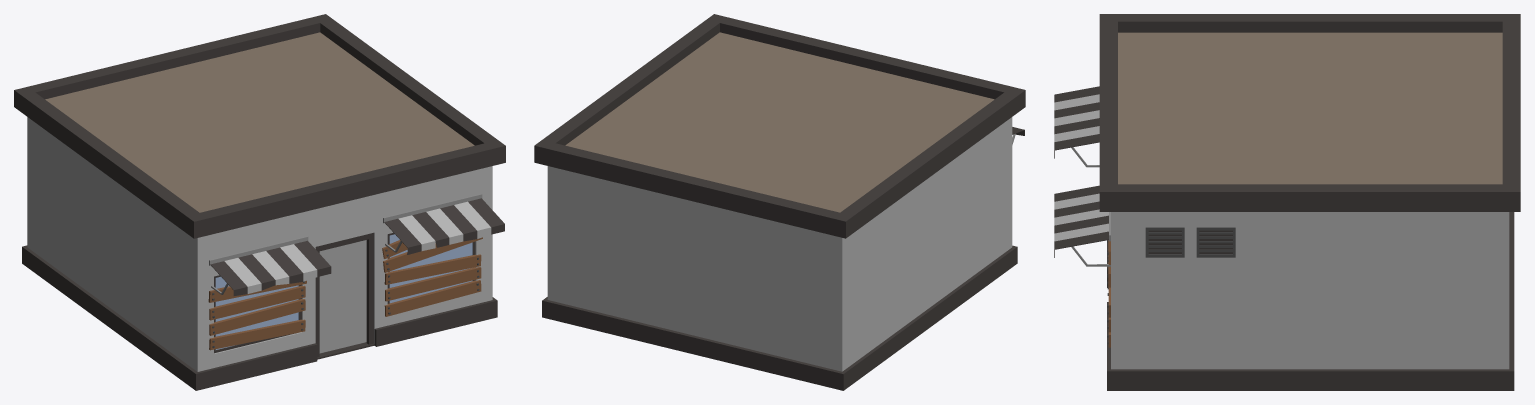
The model's file is House_07.glb.
3 views of the same model, side by side, from view 1: azimuth 30°, elevation 25°; view 2: azimuth 150°, elevation 25°; view 3: azimuth 270°, elevation 25° (orthographic). The views are drawn at different scales.
Visible parts, largest first — view 1: House_07; view 2: House_07; view 3: House_07.
Part boxes in pixels (x1=…): House_07: x1=14, y1=14, x2=505, y2=390; House_07: x1=534, y1=14, x2=1025, y2=390; House_07: x1=1054, y1=14, x2=1520, y2=390.
Bounding box in the file's own units: 6.34 × 3.36 × 7.03.
2 materials, 2 textured.
